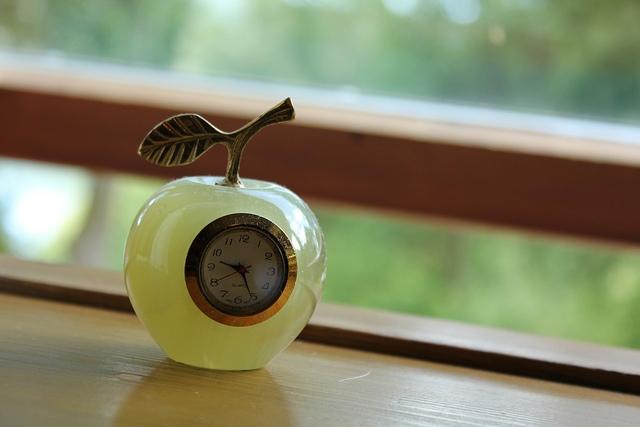apple: (122, 97, 327, 372)
